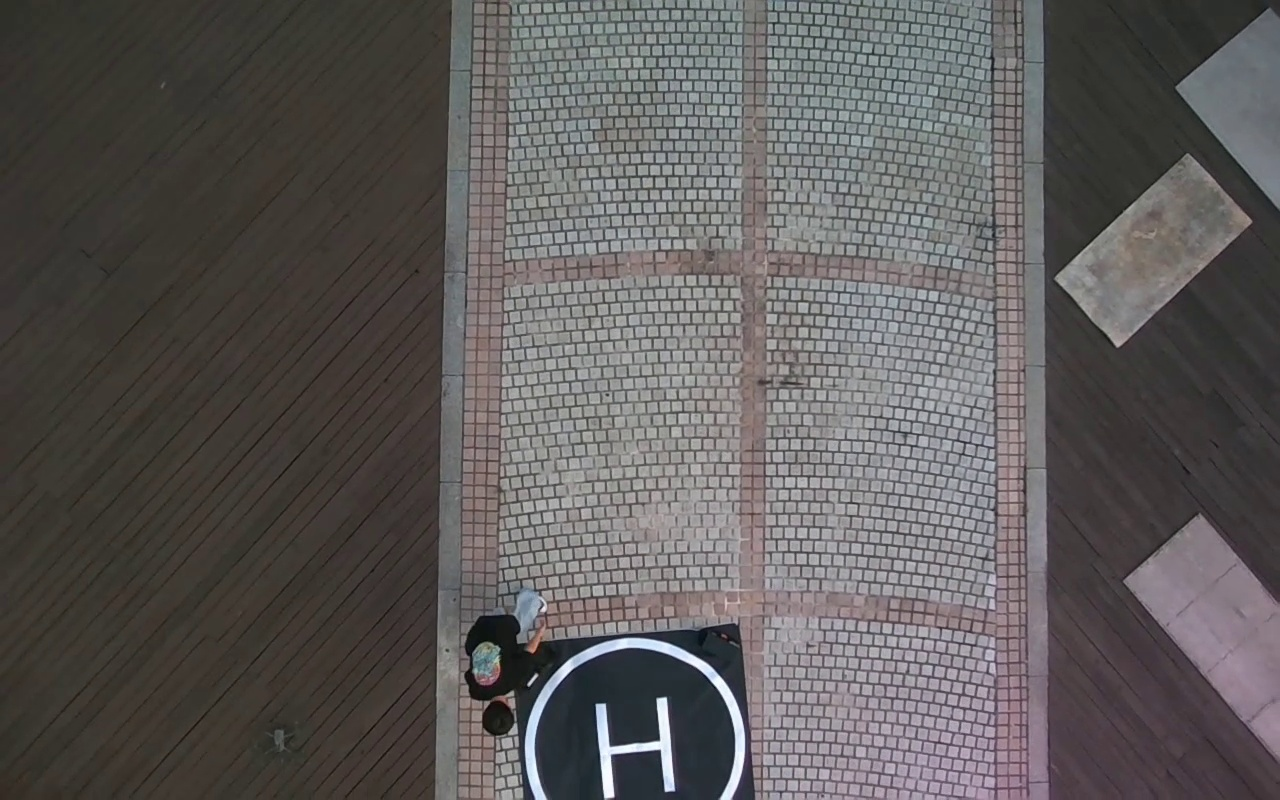H: (590, 695, 677, 800)
